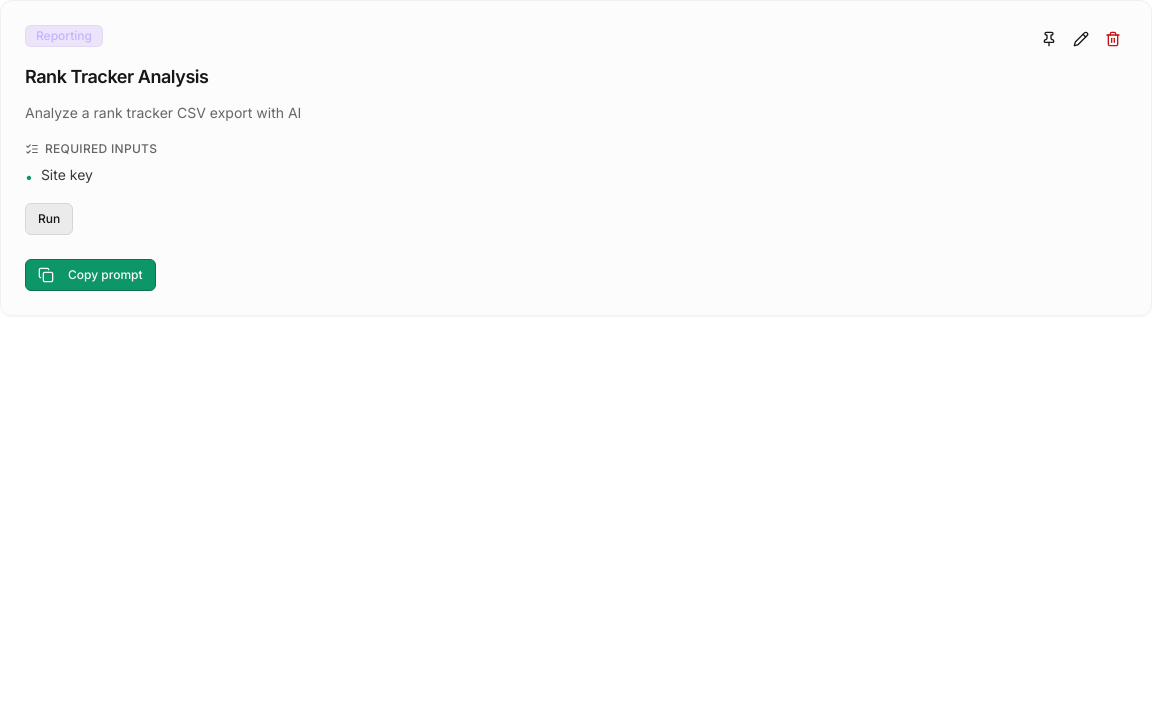
it: WorkflowCard - RankRocket MCP run › opens the inputs dialog instead of running immediately when the workflow has inputs
Click the button with test id "button-run-prompt-7" at point(49, 218), box [25,202,73,234]
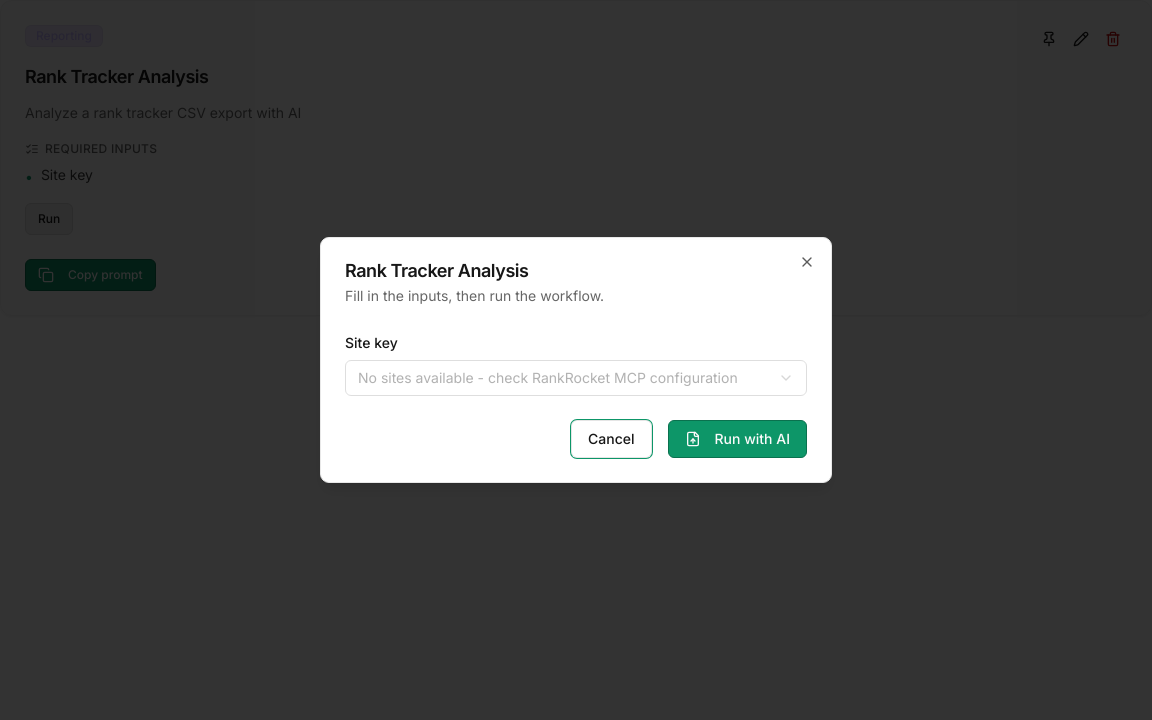
Check: the button with test id "button-run-confirm" is shown, box [668,420,807,458]
